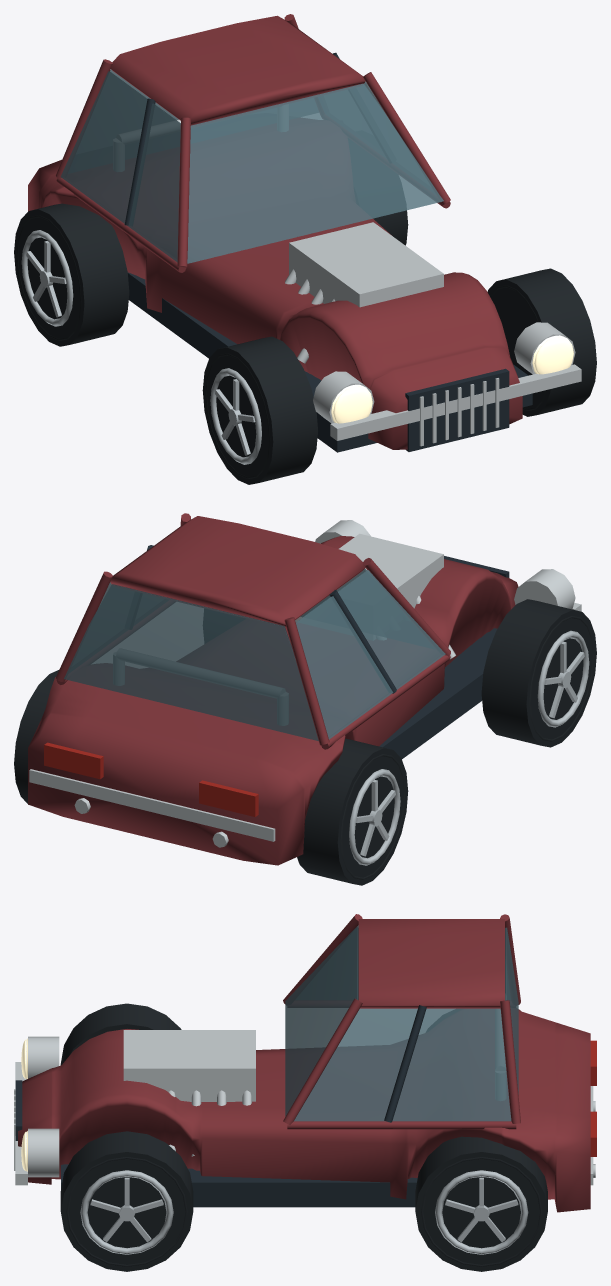
File: deuce.glb
3 renders of one model, top to bottom at view 1: azimuth 30°, elevation 25°; view 2: azimuth 150°, elevation 25°; view 3: azimuth 270°, elevation 25°, orthographic. The views are drawn at different scales.
Parts seen in each view (by area): view 1: exterior-paint, windows, chrome, tire-front-left, tire-rear-left, black-trim, tire-front-right, headlights, rim-rear-left, rim-front-left, tire-rear-right; view 2: exterior-paint, windows, tire-front-left, chrome, tire-rear-left, black-trim, taillights, rim-front-left, rim-rear-left, tire-rear-right; view 3: exterior-paint, windows, tire-front-right, chrome, tire-rear-right, black-trim, rim-front-right, rim-rear-right, tire-front-left, taillights, headlights.
Boxes of the visible parts, x1=… form: exterior-paint: x1=28, y1=14, x2=522, y2=449; windows: x1=60, y1=69, x2=443, y2=263; chrome: x1=113, y1=113, x2=581, y2=446; tire-front-left: x1=202, y1=336, x2=317, y2=484; tire-rear-left: x1=14, y1=203, x2=129, y2=346; black-trim: x1=124, y1=52, x2=532, y2=452; tire-front-right: x1=487, y1=268, x2=596, y2=416; headlights: x1=331, y1=335, x2=573, y2=423; rim-rear-left: x1=21, y1=230, x2=73, y2=326; rim-front-left: x1=210, y1=368, x2=261, y2=464; tire-rear-right: x1=351, y1=147, x2=408, y2=245; exterior-paint: x1=28, y1=513, x2=518, y2=865; windows: x1=64, y1=569, x2=445, y2=741; tire-front-left: x1=481, y1=599, x2=596, y2=747; chrome: x1=29, y1=520, x2=581, y2=847; tire-rear-left: x1=297, y1=738, x2=408, y2=885; black-trim: x1=131, y1=545, x2=509, y2=758; taillights: x1=44, y1=742, x2=258, y2=816; rim-front-left: x1=537, y1=630, x2=589, y2=727; rim-rear-left: x1=349, y1=769, x2=400, y2=865; tire-rear-right: x1=14, y1=670, x2=58, y2=803; exterior-paint: x1=18, y1=914, x2=590, y2=1212; windows: x1=285, y1=925, x2=518, y2=1121; tire-front-right: x1=60, y1=1131, x2=193, y2=1271; chrome: x1=14, y1=998, x2=595, y2=1185; tire-rear-right: x1=415, y1=1136, x2=547, y2=1271; black-trim: x1=15, y1=1005, x2=426, y2=1207; rim-front-right: x1=80, y1=1170, x2=173, y2=1254; rim-rear-right: x1=435, y1=1170, x2=528, y2=1254; tire-front-left: x1=60, y1=1003, x2=181, y2=1065; taillights: x1=590, y1=1040, x2=596, y2=1156; headlights: x1=21, y1=1038, x2=27, y2=1171.
Bounding box in the file's own units: 1.86 × 1.39 × 2.99.
